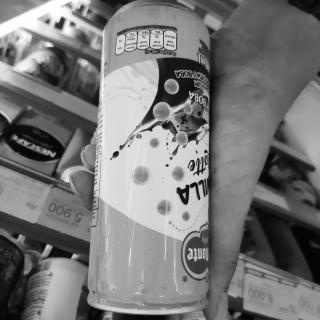alumunium_can: (77, 0, 212, 320)
